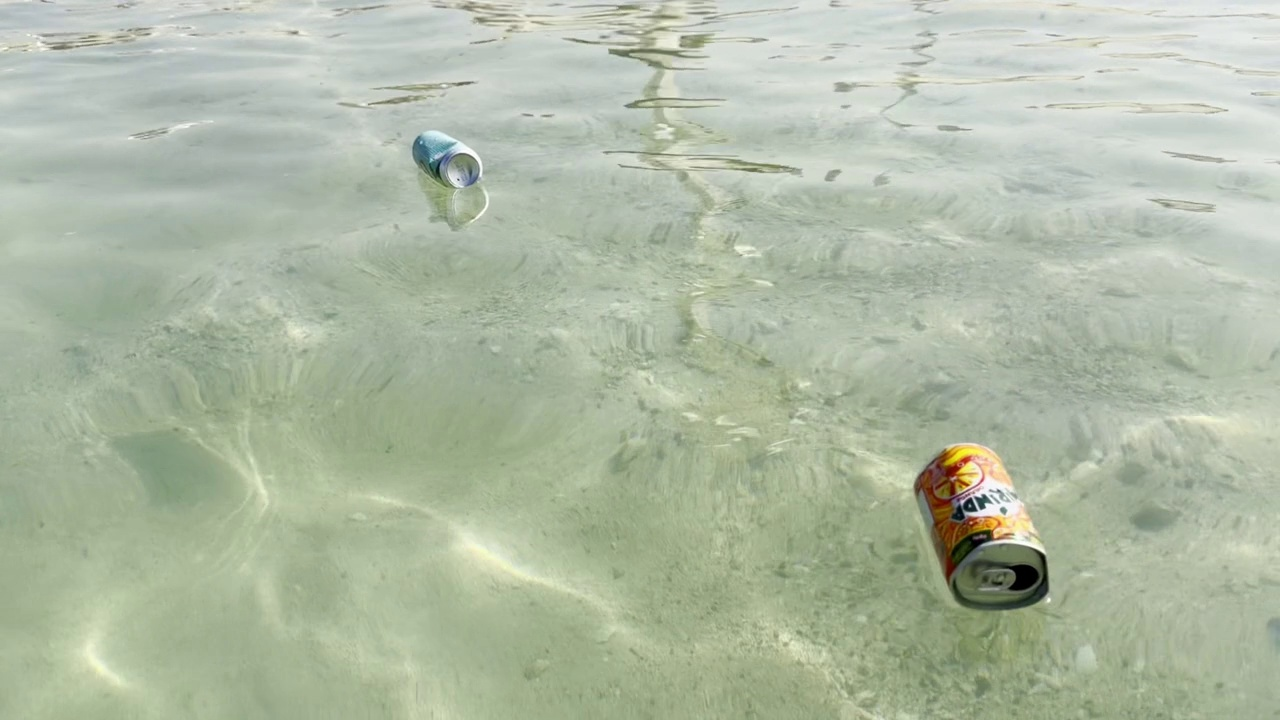debris: (908, 422, 1055, 621), (406, 127, 487, 198)
